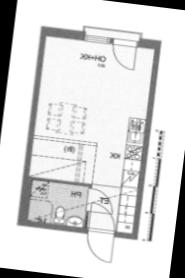door: (80, 227, 114, 265), (107, 37, 140, 72), (85, 201, 118, 235), (83, 186, 116, 216)
window: (79, 31, 110, 46)
